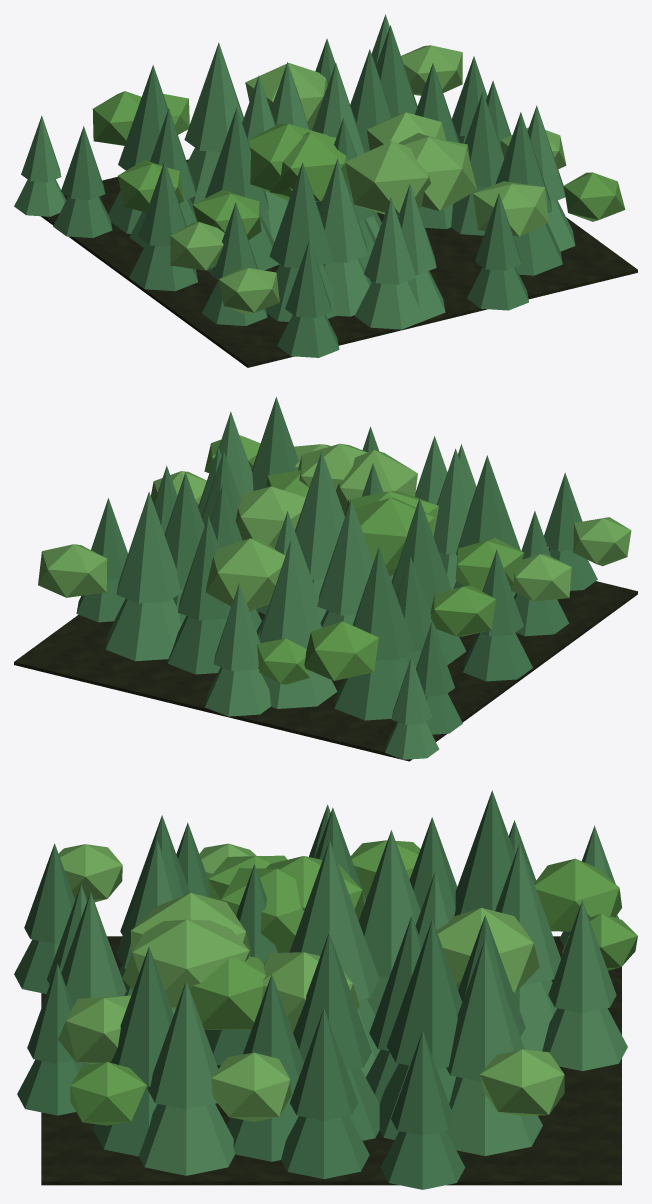
File: forest_impostor.glb
3 renders of one model, top to bottom at view 1: azimuth 30°, elevation 25°; view 2: azimuth 150°, elevation 25°; view 3: azimuth 270°, elevation 25°, orthographic. The views are drawn at different scales.
Visible parts, largest first — view 1: forest_impostor; view 2: forest_impostor; view 3: forest_impostor.
Boxes of the visible parts, <box> form: forest_impostor: <box>14,14,637,367</box>; forest_impostor: <box>14,397,637,761</box>; forest_impostor: <box>14,790,637,1189</box>.
Size of the model in its own units: 42.7 by 17.14 by 43.01.
5 materials, 1 textured.
